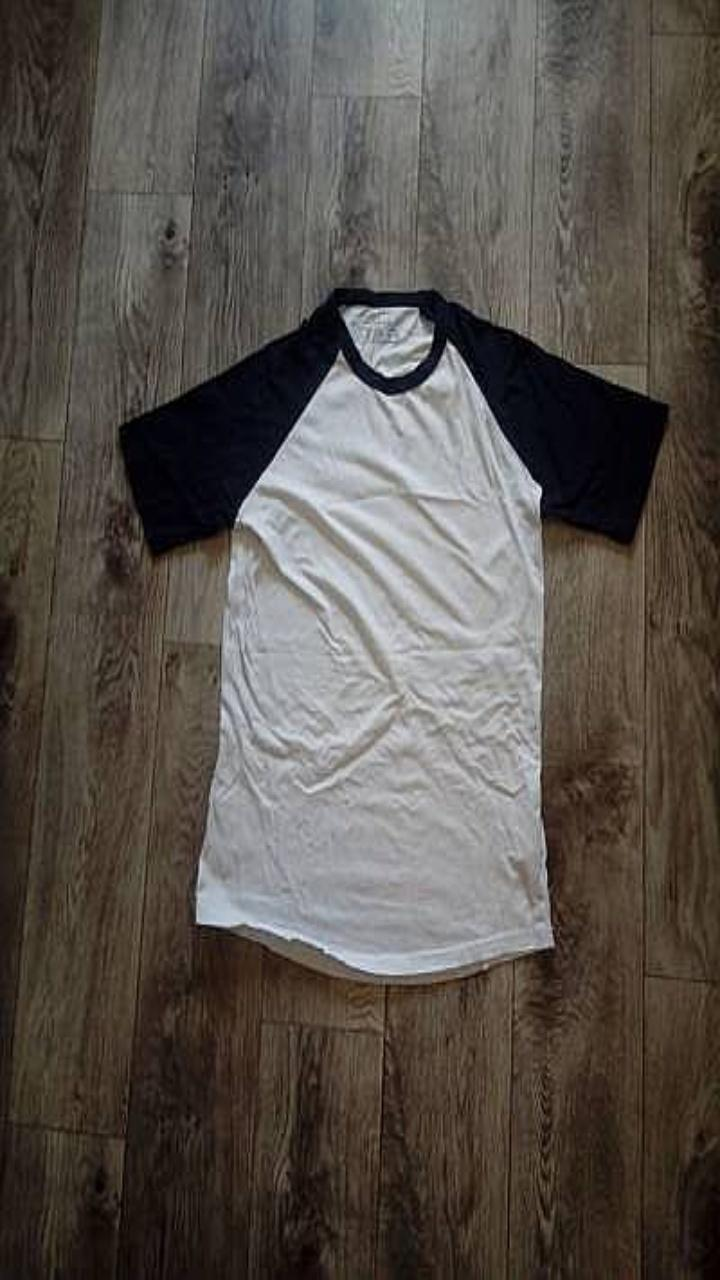T-Shirt: (120, 287, 668, 981)
